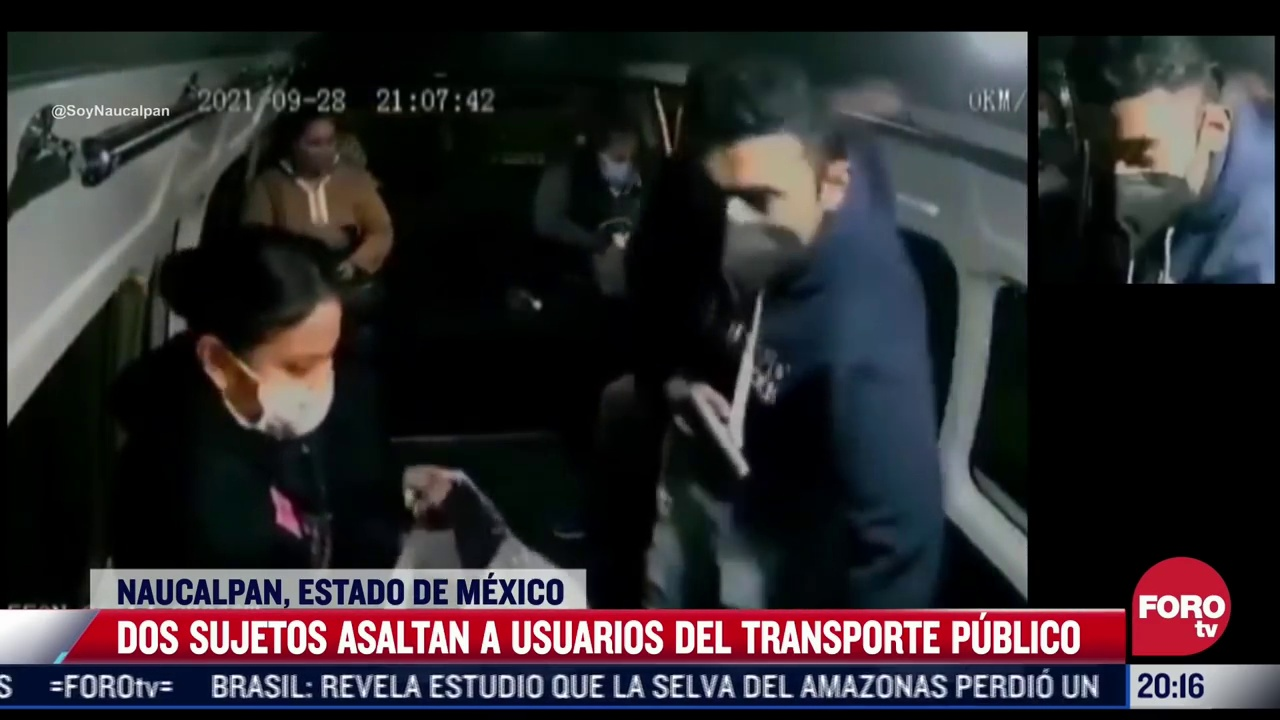pistol: (688, 388, 753, 481)
